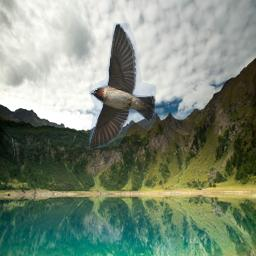Swallow: (89, 23, 156, 150)
